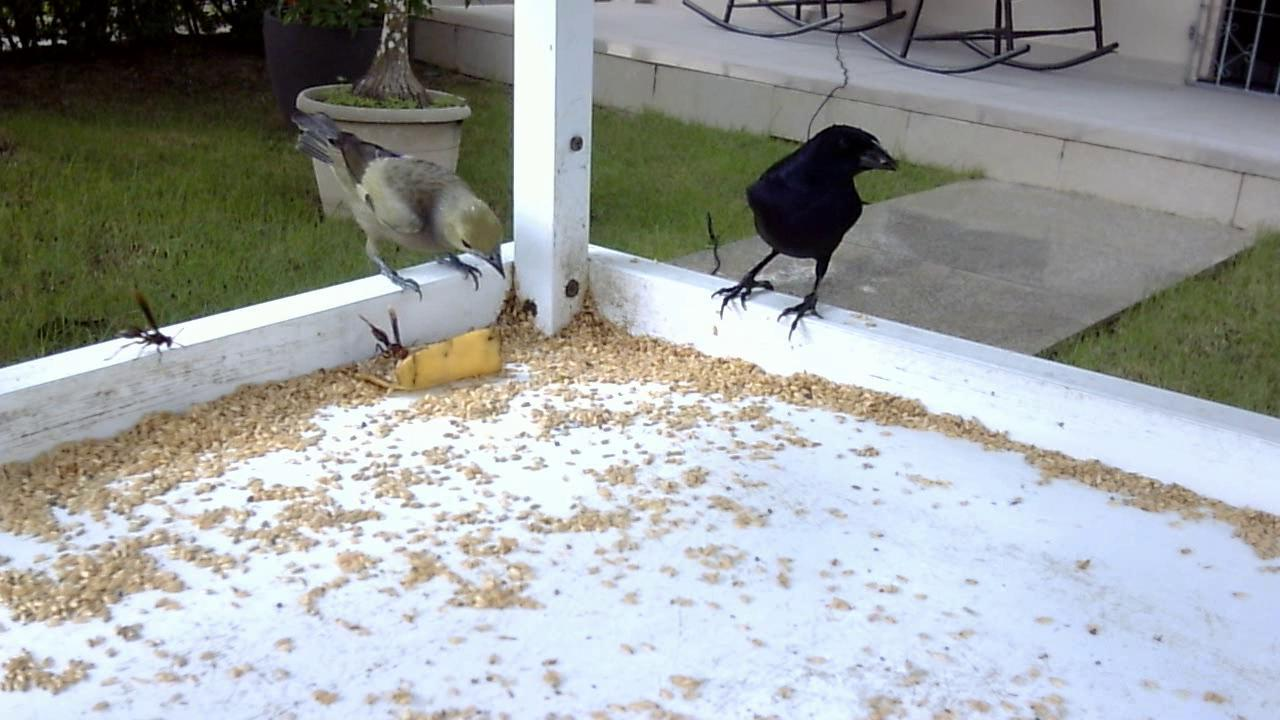chupim: (701, 111, 900, 357)
sanhaco_do_coqueiro: (282, 99, 504, 318)
